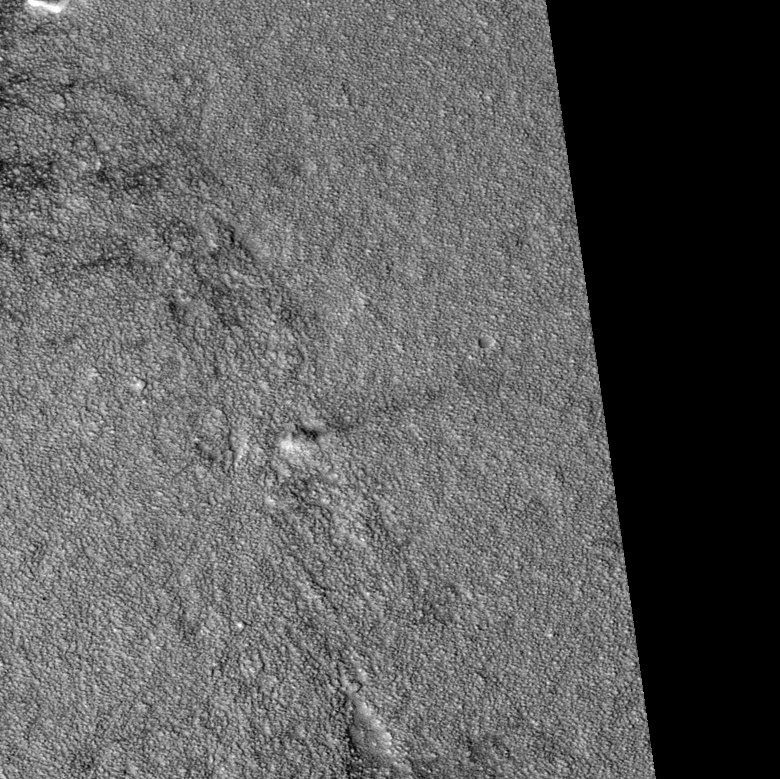dust_devil: (277, 415, 353, 454)
